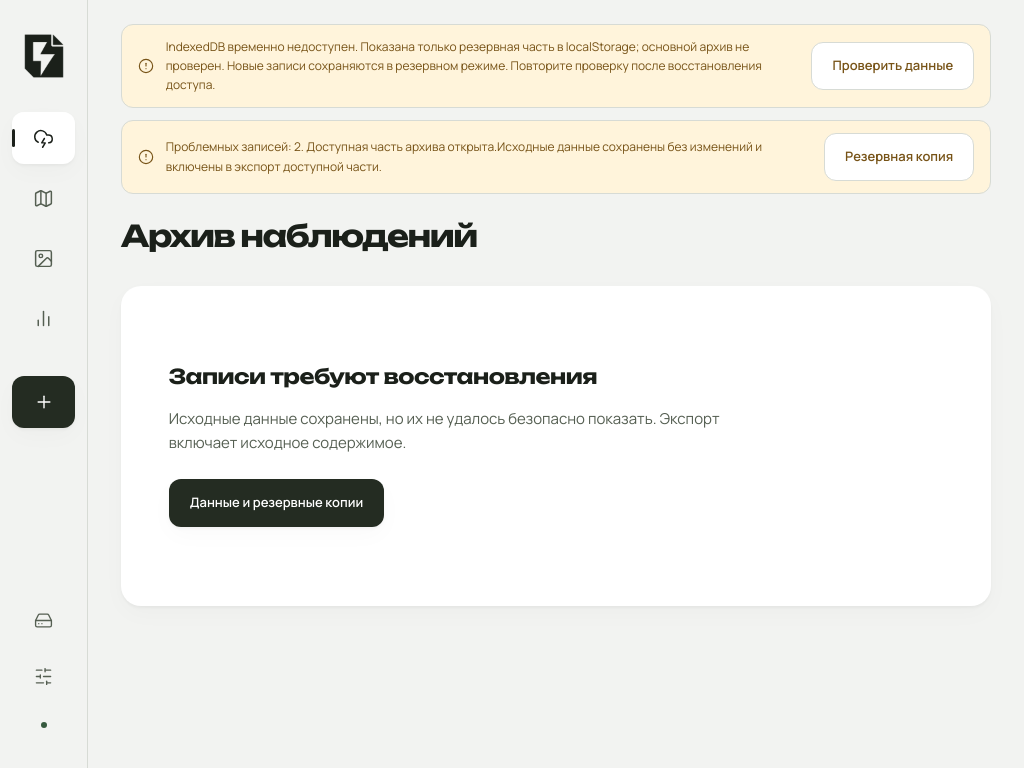
Test case: archive safety messages and import confirmation › offers recovery export even when no record can be displayed
expect the heading "Записи требуют восстановления" is shown: met, box [169,364,597,391]
Step 1. Click the button named "Данные и резервные копии" → (44, 620), box [12,594,75,646]
(page scrolled)
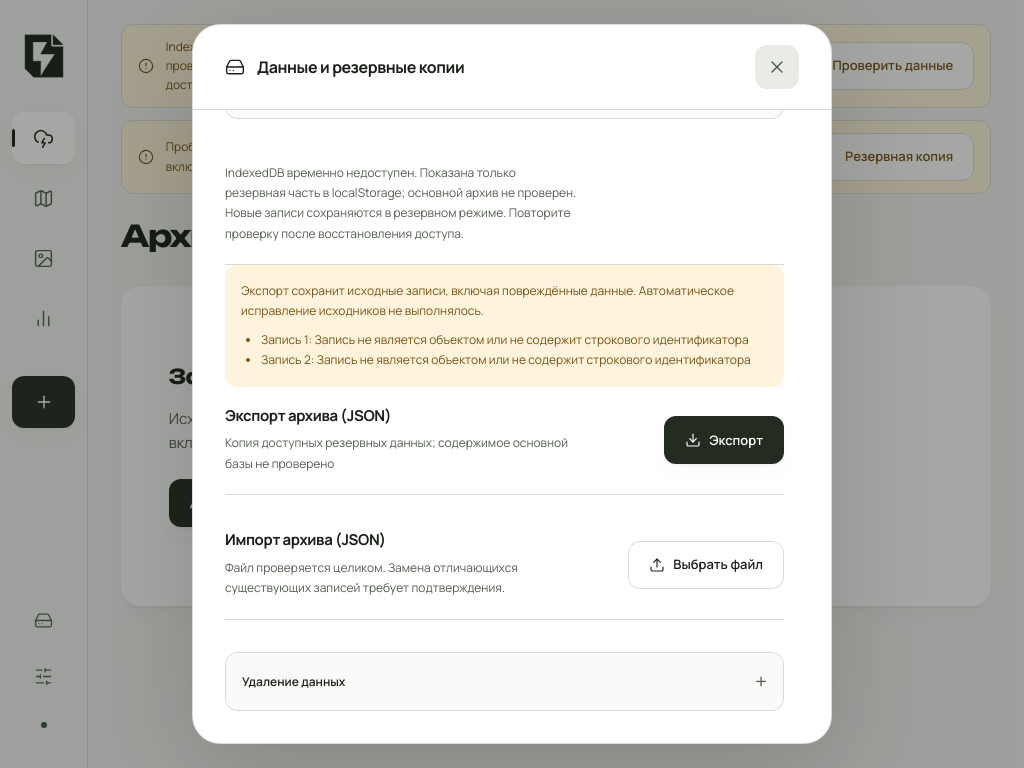
expect the button "Экспорт" is enabled: met, box [664,416,784,464]
